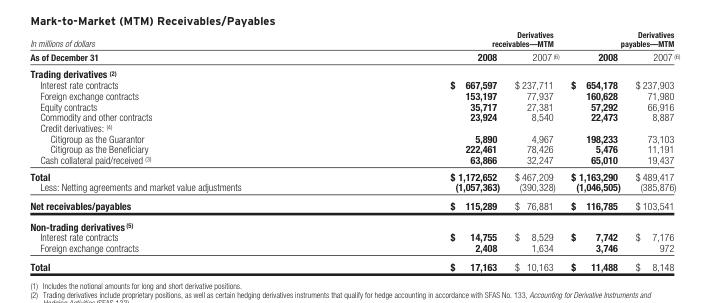table: (29, 29, 679, 272)
table column: (29, 29, 345, 272), (345, 29, 506, 272), (564, 29, 627, 272), (506, 29, 564, 272), (627, 29, 679, 272)
table column header: (29, 29, 679, 65)
table projected row header: (29, 215, 679, 231), (29, 65, 679, 79), (29, 122, 679, 132)
table row: (29, 29, 679, 49), (29, 196, 679, 215), (29, 49, 679, 65), (29, 215, 679, 231), (29, 256, 679, 272), (29, 181, 679, 196), (29, 241, 679, 256), (29, 65, 679, 79), (29, 167, 679, 181), (29, 154, 679, 167), (29, 89, 679, 100), (29, 100, 679, 111), (29, 111, 679, 122), (29, 132, 679, 143), (29, 143, 679, 154), (29, 79, 679, 89), (29, 122, 679, 132), (29, 231, 679, 241)
table spanning cell: (29, 29, 345, 65), (345, 29, 564, 49), (564, 29, 679, 49)
